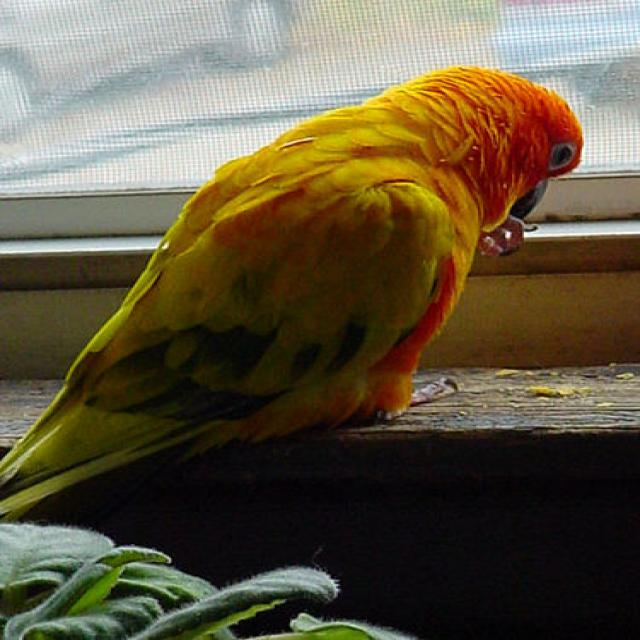bird: (1, 66, 585, 522)
